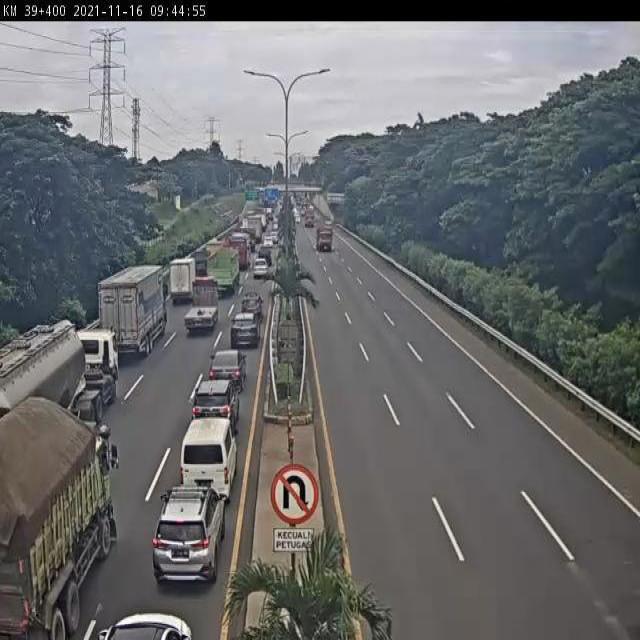ARABA: (152, 488, 224, 584), (188, 382, 236, 446), (205, 355, 242, 397), (227, 313, 259, 352), (235, 298, 262, 330), (250, 258, 271, 286)
KAMYONET: (184, 278, 219, 334), (166, 256, 197, 304)
OTOBUS: (180, 419, 235, 500)
TIR: (0, 398, 118, 638), (0, 320, 118, 459), (98, 264, 165, 361), (206, 248, 242, 300)
